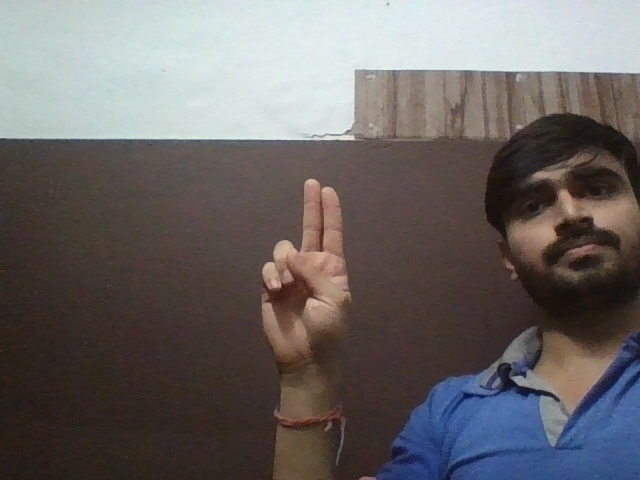U: (250, 173, 363, 372)
